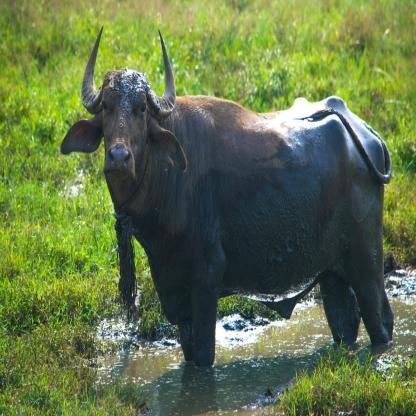buffalo: (78, 38, 406, 366)
